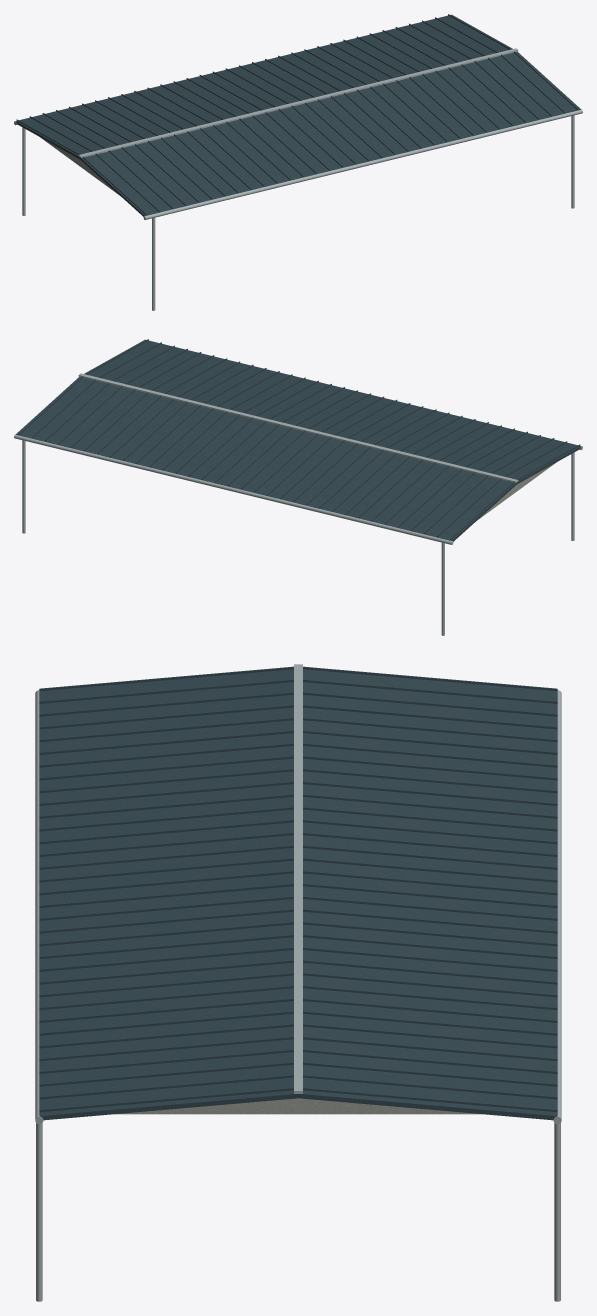
File: mine-distribution-roof.glb
3 renders of one model, top to bottom at view 1: azimuth 30°, elevation 25°; view 2: azimuth 150°, elevation 25°; view 3: azimuth 270°, elevation 25°, orthographic. The views are drawn at different scales.
Visible parts, largest first — view 1: distribution-roof__Power_roof, distribution-roof__Power_trim; view 2: distribution-roof__Power_roof, distribution-roof__Power_trim; view 3: distribution-roof__Power_roof, distribution-roof__Power_trim, distribution-roof__Power_wall.
Boxes of the visible parts, x1,y1,x2,y2 form: distribution-roof__Power_roof: [15, 14, 580, 216]; distribution-roof__Power_trim: [14, 16, 582, 310]; distribution-roof__Power_roof: [16, 339, 581, 541]; distribution-roof__Power_trim: [14, 341, 582, 635]; distribution-roof__Power_roof: [39, 666, 557, 1120]; distribution-roof__Power_trim: [35, 664, 561, 1301]; distribution-roof__Power_wall: [115, 1098, 481, 1114].
Bounding box in the file's own units: 18.4 × 4.38 × 9.59.
Materials: 4 (3 with a texture image).
